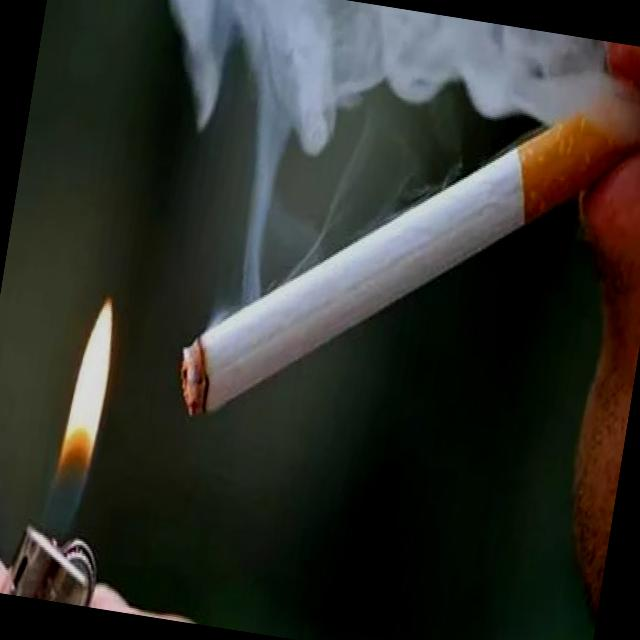cigarette: (168, 14, 640, 482)
